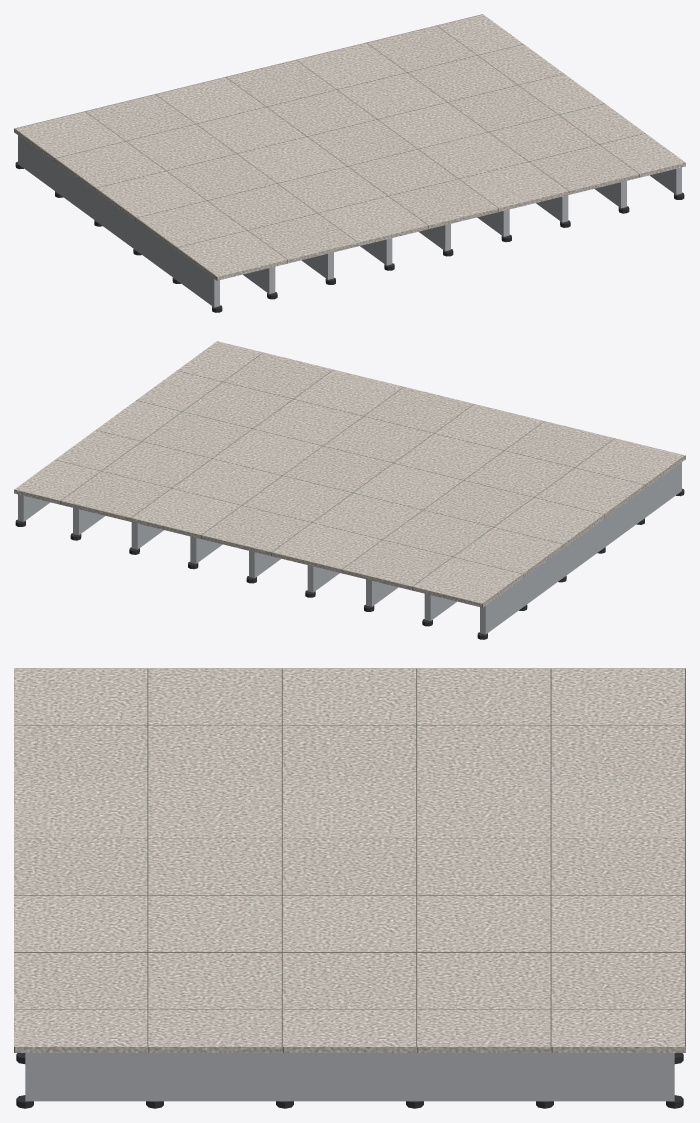
The picture shows the model from 3 angles, top to bottom: view 1: azimuth 30°, elevation 25°; view 2: azimuth 150°, elevation 25°; view 3: azimuth 270°, elevation 25°; orthographic projection. The views are drawn at different scales.
Parts seen in each view (by area): view 1: surface.raised_terrace (×3); view 2: surface.raised_terrace (×3); view 3: surface.raised_terrace (×3).
Boxes of the visible parts, x1,y1,x2,y2 form: surface.raised_terrace (×3): (14,14,685,312); surface.raised_terrace (×3): (14,341,685,639); surface.raised_terrace (×3): (14,668,685,1108).
Size of the model in its own units: 4.02 by 3 by 0.3.
Materials: 3 (1 with a texture image).
